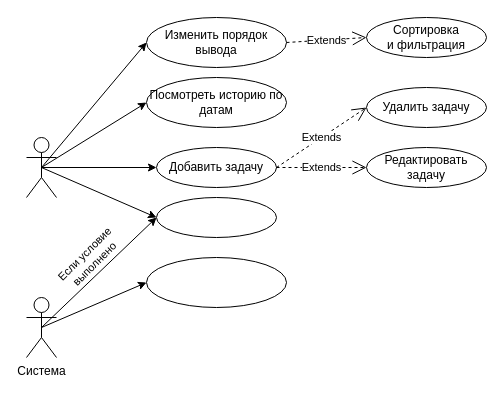
Image size: 504x396. Some labels were removed from this diagram. The centre of each missing label's shape, as x and y in pixels:
Отметить выполнение: pixel 216 217
Создать список задач на день: pixel 216 282
Юзверь: pixel 41 167
